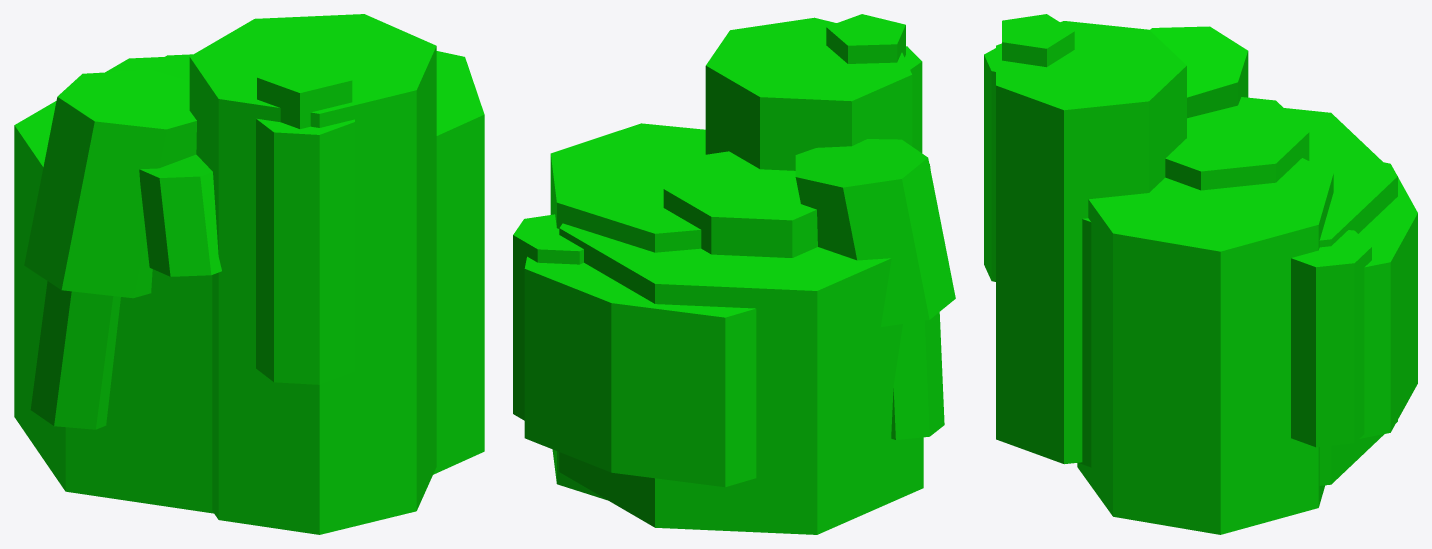
The model's file is stone_1m (1).fbx.
3 renders of one model, left to right at view 1: azimuth 30°, elevation 25°; view 2: azimuth 150°, elevation 25°; view 3: azimuth 270°, elevation 25°, orthographic. The views are drawn at different scales.
Visible parts, largest first — view 1: Stone 1m.001; view 2: Stone 1m.001; view 3: Stone 1m.001.
Boxes of the visible parts, x1,y1,x2,y2 form: Stone 1m.001: (14, 14, 484, 534); Stone 1m.001: (513, 14, 955, 534); Stone 1m.001: (984, 14, 1417, 534).
Size of the model in its own units: 100 by 100 by 100.
